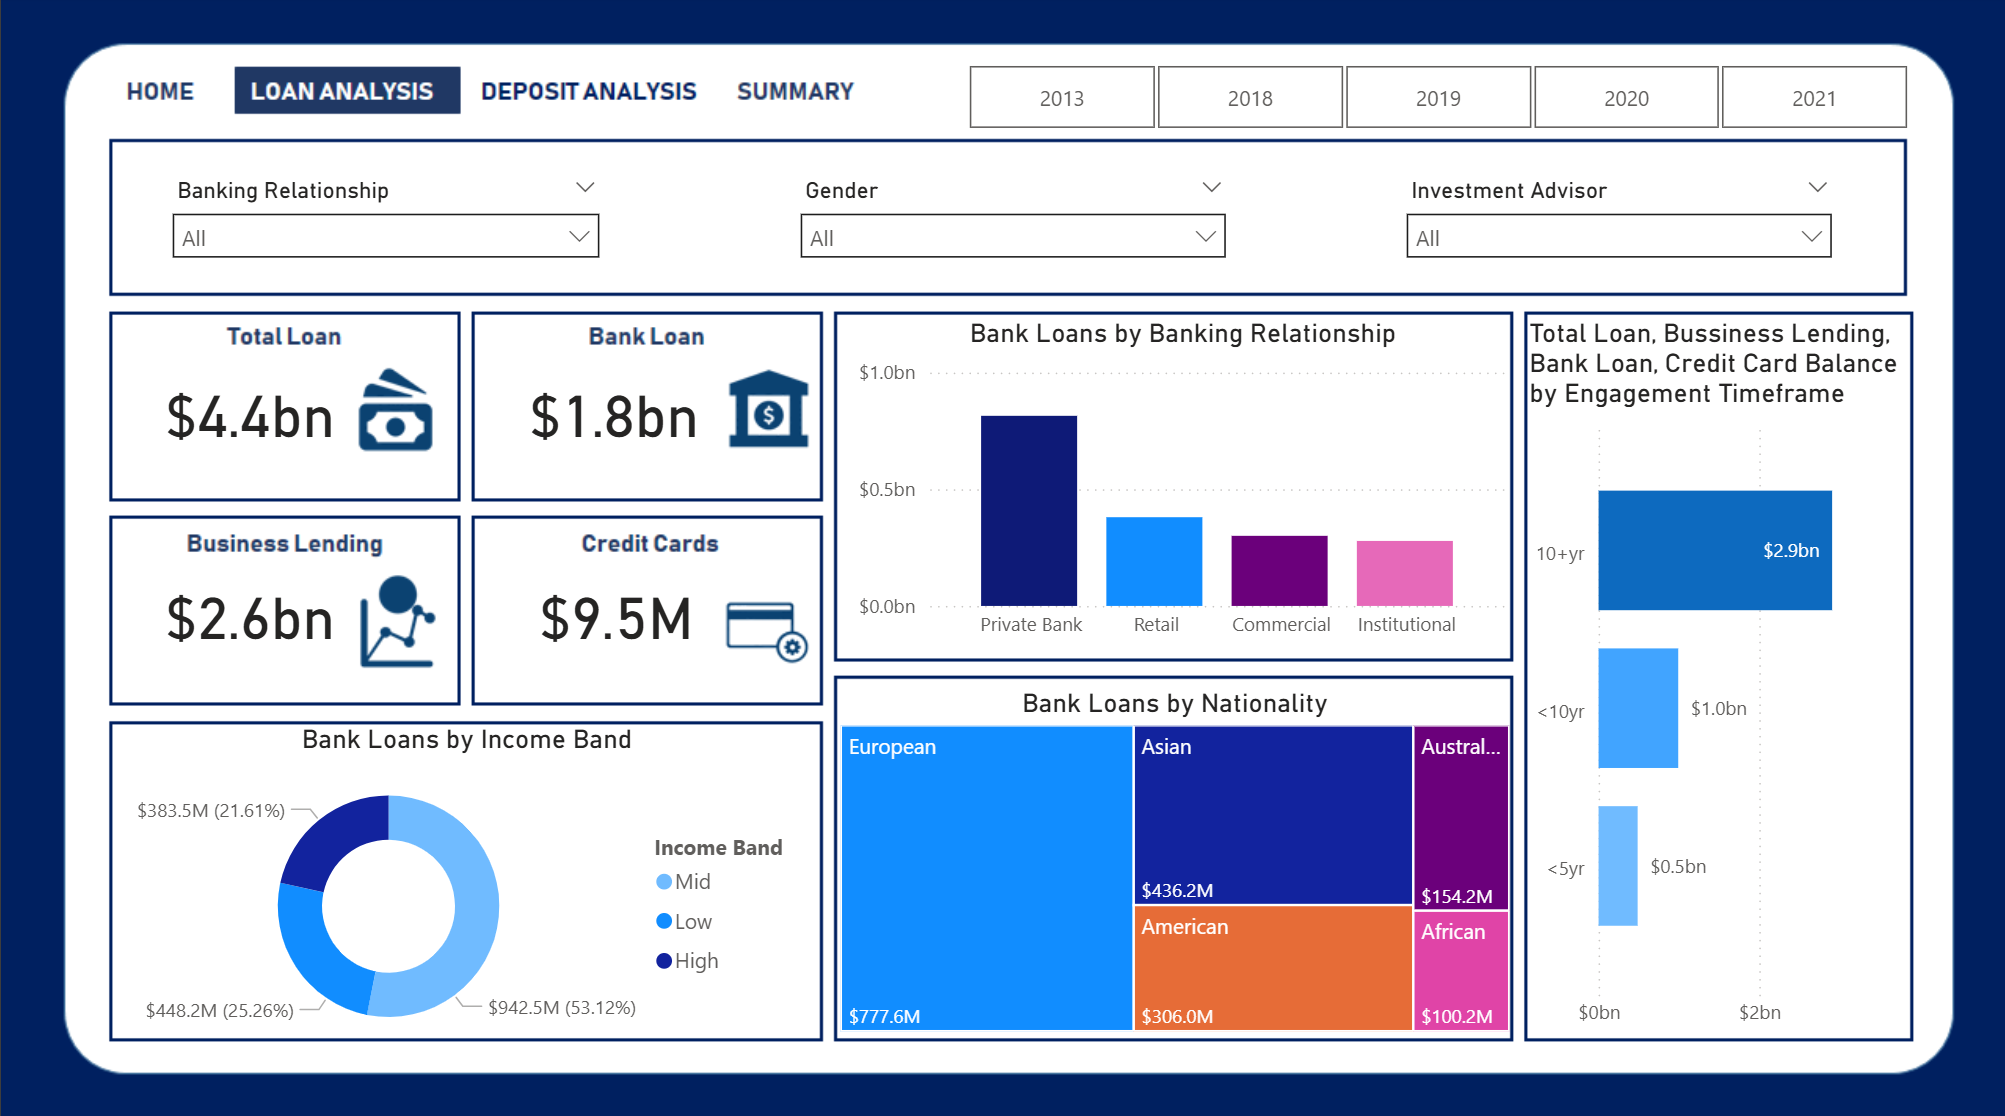

Layout of this report page (visuals, bound fields, positions):
{"tool":"powerbi","page":{"name":"Loan Analysis","canvas":[1280,720],"ordinal":1},"visuals":[{"type":"card","fields":{"Values":["report.loan"]},"box":[88,230.8,141.5,71.4],"z":0},{"type":"card","fields":{"Values":["Sum(report.bank_loans)"]},"box":[320,230.8,141.5,71.4],"z":1000},{"type":"card","fields":{"Values":["Sum(report.business_lending)"]},"box":[88,359.5,141.5,71.4],"z":2000},{"type":"card","fields":{"Values":["Sum(report.credit_card_balance)"]},"box":[321.3,359.5,141.5,71.4],"z":3000},{"type":"slicer","fields":{"Values":["report.year_of_joining"]},"box":[591.6,39.5,647.6,53.5],"z":4000},{"type":"slicer","fields":{"Values":["report.banking_relationship"]},"box":[99.4,112.2,292,66.3],"z":5000},{"type":"slicer","fields":{"Values":["report.gender"]},"box":[499.8,112.2,291,66.3],"z":6000},{"type":"slicer","fields":{"Values":["report.investment_advisor"]},"box":[886.1,112.2,291,66.3],"z":7000},{"type":"columnChart","fields":{"Category":["report.banking_relationship"],"Y":["Sum(report.bank_loans)"]},"box":[541.8,204,423.3,216.7],"z":8000},{"type":"donutChart","title":"Bank Loans by Income Band","fields":{"Category":["report.income_band"],"Y":["Sum(report.bank_loans)"]},"box":[72.7,462.8,448.8,216.7],"z":9000},{"type":"treemap","title":"Bank Loans by Nationality","fields":{"Group":["report.nationality"],"Values":["Sum(report.bank_loans)"]},"box":[530.4,439.8,436,226.9],"z":10000},{"type":"barChart","title":"Total Loan, Bussiness Lending, Bank Loan, Credit Card Balance by Engagement Timeframe ","fields":{"Category":["report.engagement_timeframe"],"Y":["report.loan"]},"box":[966.4,204,256.3,464.1],"z":11000},{"type":"actionButton","box":[72.7,39.5,57.4,39.5],"z":12000},{"type":"actionButton","box":[297.1,39.5,154.3,39.5],"z":13000},{"type":"actionButton","box":[461.5,40.8,91.8,39.5],"z":13001}]}

Visuals, with their boxes in screenshot pixels (x1, y1, x2, y2), scaled from the page's 1280x720 canvas onto the 2005x1116 screenshot:
card - report.loan: Rect(138, 358, 359, 468)
card - Sum(report.bank_loans): Rect(501, 358, 723, 468)
card - Sum(report.business_lending): Rect(138, 557, 359, 668)
card - Sum(report.credit_card_balance): Rect(503, 557, 725, 668)
slicer - report.year_of_joining: Rect(927, 61, 1941, 144)
slicer - report.banking_relationship: Rect(156, 174, 613, 277)
slicer - report.gender: Rect(783, 174, 1239, 277)
slicer - report.investment_advisor: Rect(1388, 174, 1844, 277)
columnChart - report.banking_relationship x Sum(report.bank_loans): Rect(849, 316, 1512, 652)
"Bank Loans by Income Band" donutChart: Rect(114, 717, 817, 1053)
"Bank Loans by Nationality" treemap: Rect(831, 682, 1514, 1033)
"Total Loan, Bussiness Lending, Bank Loan, Credit Card Balance by Engagement Timeframe " barChart: Rect(1514, 316, 1915, 1036)
actionButton: Rect(114, 61, 204, 122)
actionButton: Rect(465, 61, 707, 122)
actionButton: Rect(723, 63, 867, 124)
